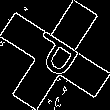P_SE: (24, 26, 86, 84)
